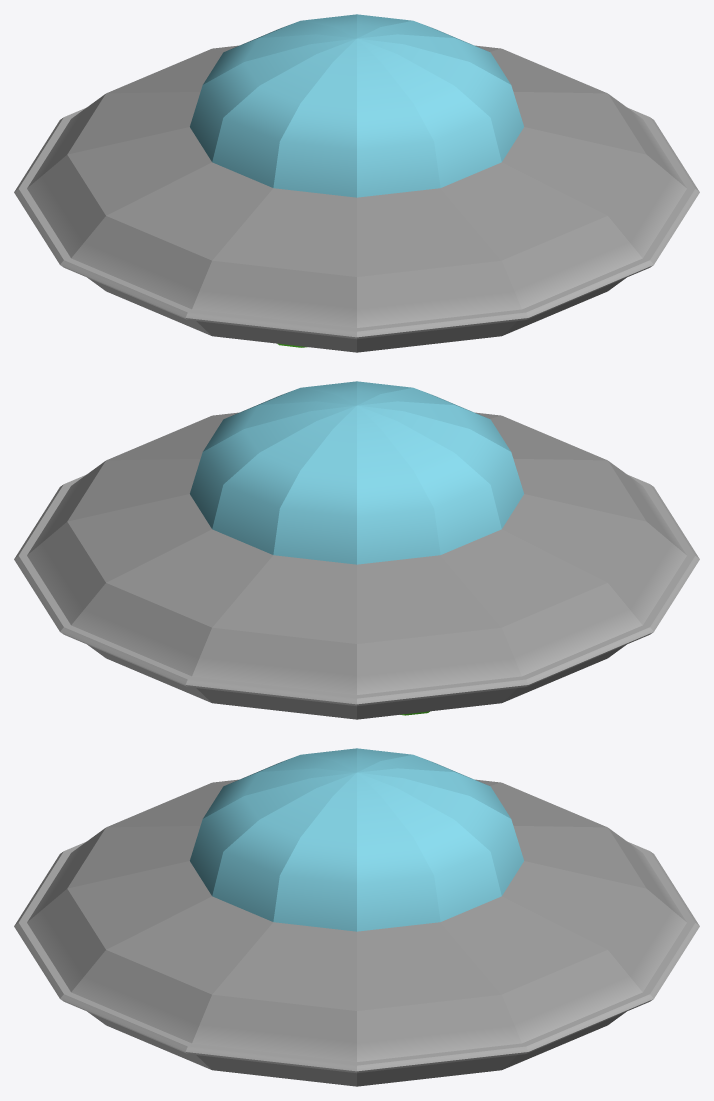
File: UFO_01.fbx
The picture shows the model from 3 angles, top to bottom: view 1: azimuth 30°, elevation 25°; view 2: azimuth 150°, elevation 25°; view 3: azimuth 270°, elevation 25°; orthographic projection.
Parts seen in each view (by area): view 1: UFO_GEO; view 2: UFO_GEO; view 3: UFO_GEO.
Part boxes in pixels (x1,y1,x2,y2): UFO_GEO: [14, 14, 699, 352]; UFO_GEO: [14, 381, 699, 719]; UFO_GEO: [14, 748, 699, 1086].
Bounding box in the file's own units: 308 × 114 × 308.
